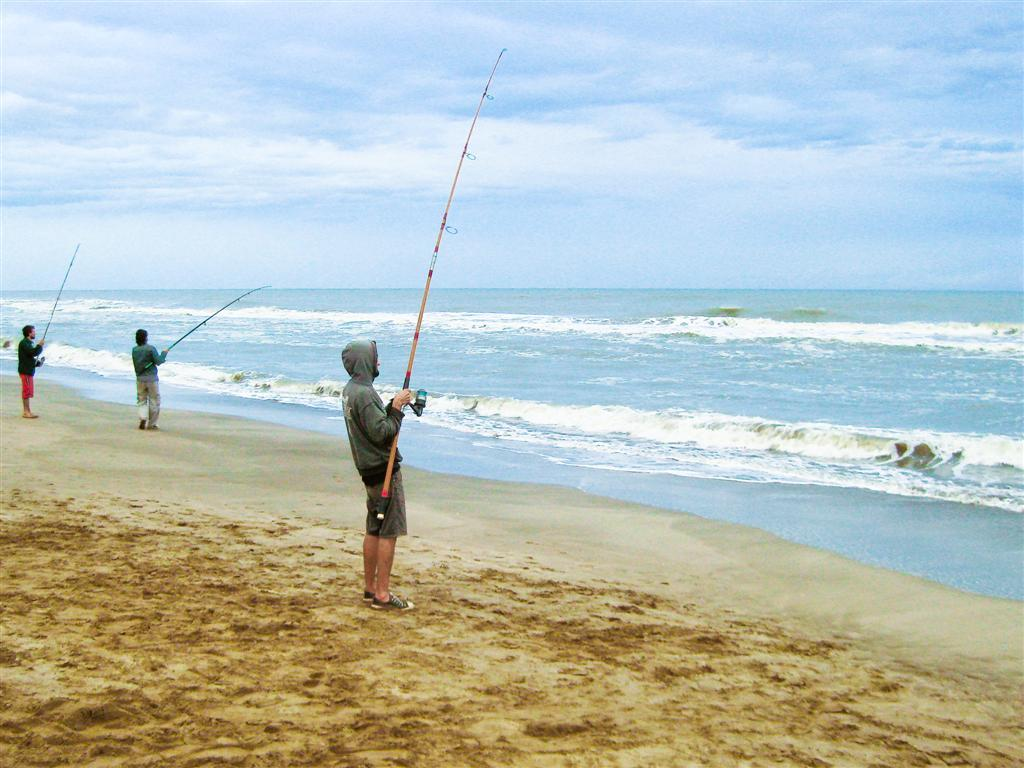Person: (337, 339, 415, 611), (127, 325, 168, 430), (15, 320, 45, 419)
